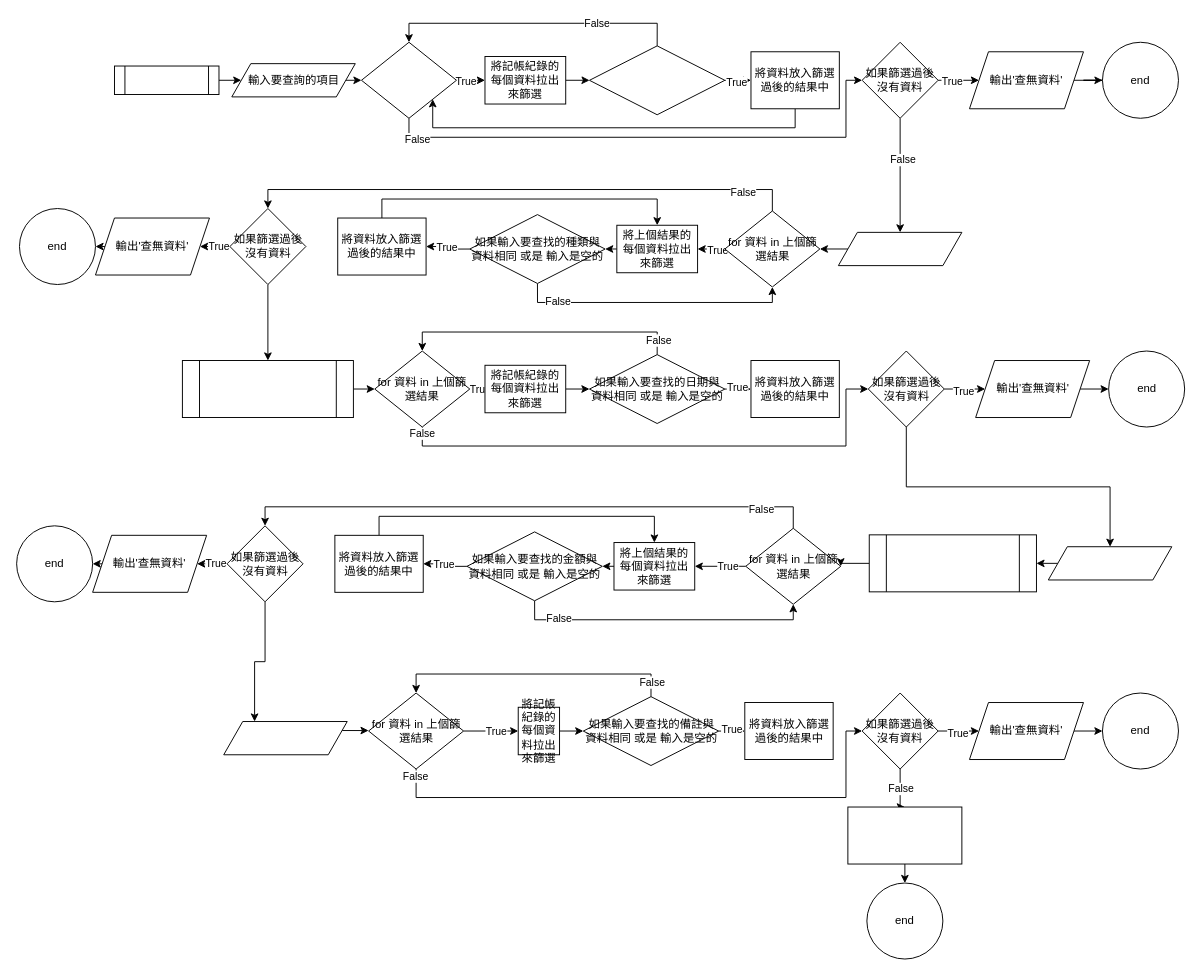
Some shapes in this 1202 by 976 pixel diagram are drawn without their labels. Here are the shapes that lost their labels. From the top down, the centre of each, then its label:
At [166,80]: "filter(記帳紀錄)".
At [408,79]: "for 資料 in 記帳紀錄".
At [657,80]: "如果輸入要查找的項目與資料相同 或是 輸入是空的".
At [899,248]: "輸入要查詢的種類".
At [267,389]: "date_input.validate_date()".
At [952,563]: "input_check_num.check()".
At [1109,563]: "輸入要查詢的金額".
At [285,738]: "輸入要查詢的備註".
At [904,835]: "回傳結果".
